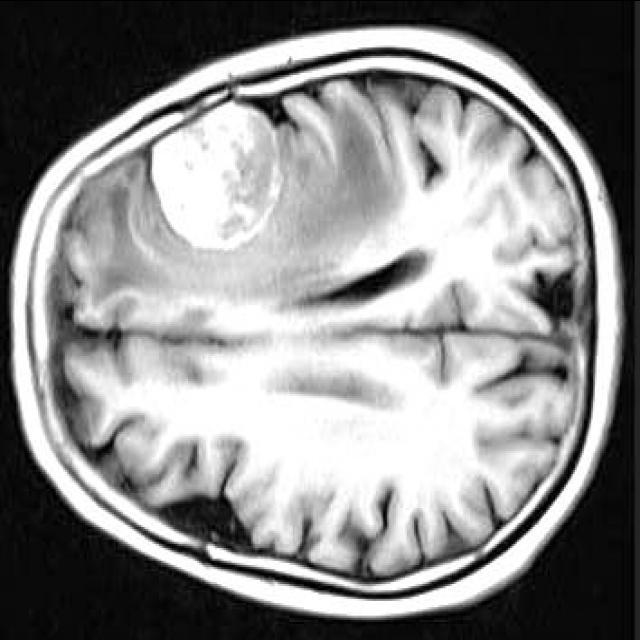tumor: (150, 99, 291, 249)
